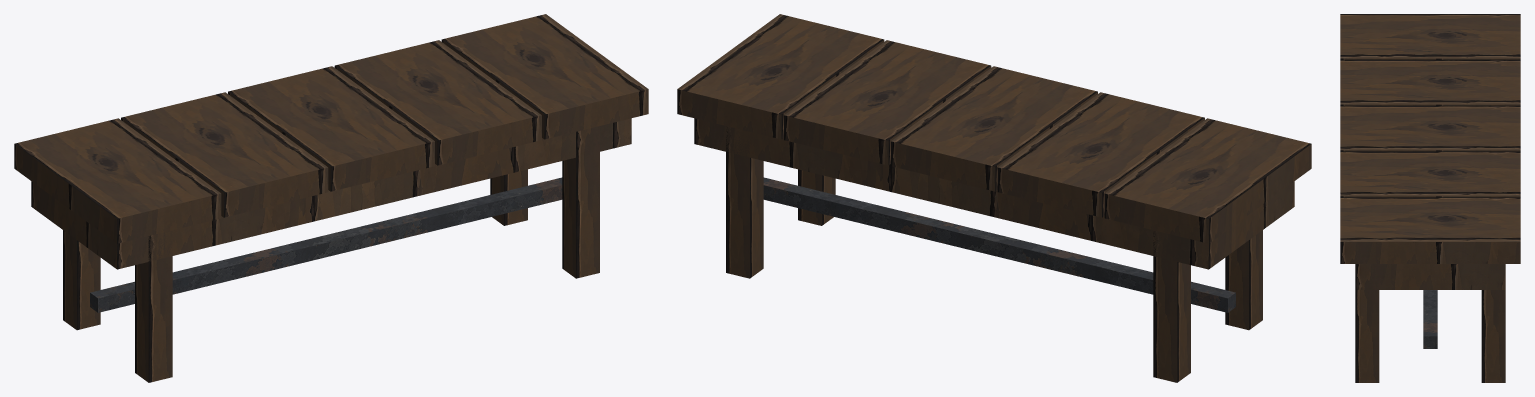
The model's file is table_long.glb.
The picture shows the model from 3 angles, left to right: view 1: azimuth 30°, elevation 25°; view 2: azimuth 150°, elevation 25°; view 3: azimuth 270°, elevation 25°; orthographic projection. The views are drawn at different scales.
Parts seen in each view (by area): view 1: table_long; view 2: table_long; view 3: table_long.
Part boxes in pixels (x1,y1,x2,y2): table_long: (14,14,648,382); table_long: (677,14,1311,382); table_long: (1340,14,1520,382).
Size of the model in its own units: 2.69 by 0.87 by 0.9.
2 materials, 2 textured.
